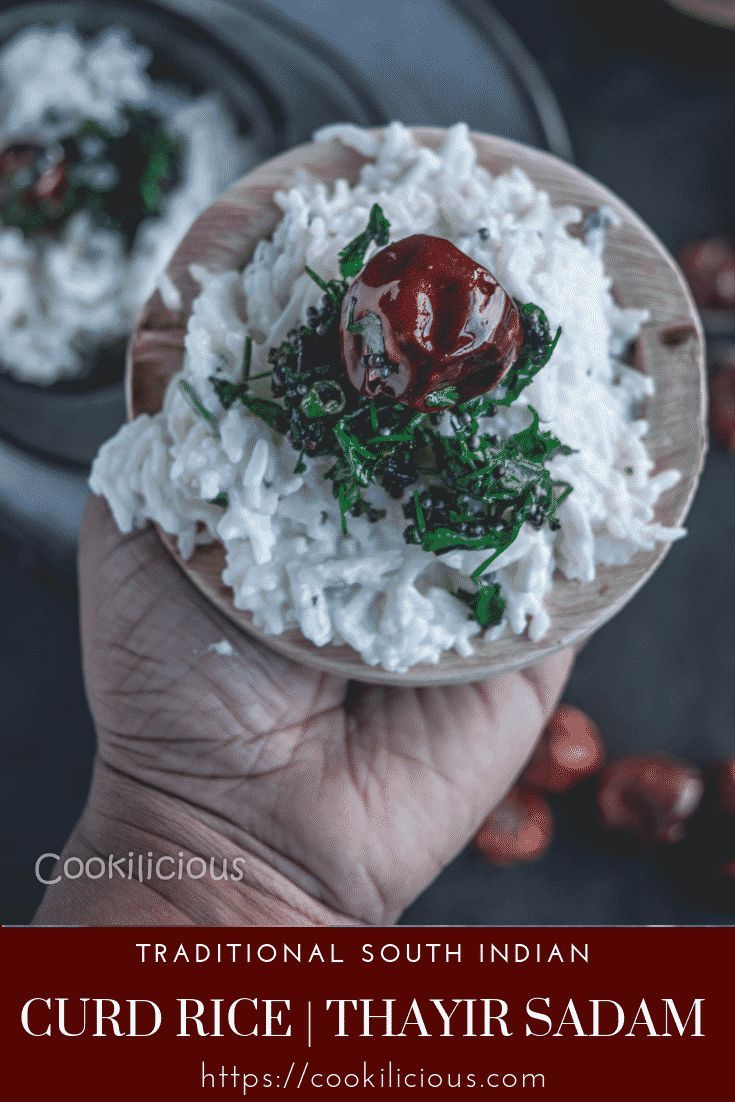curd_rice: (120, 106, 650, 655)
